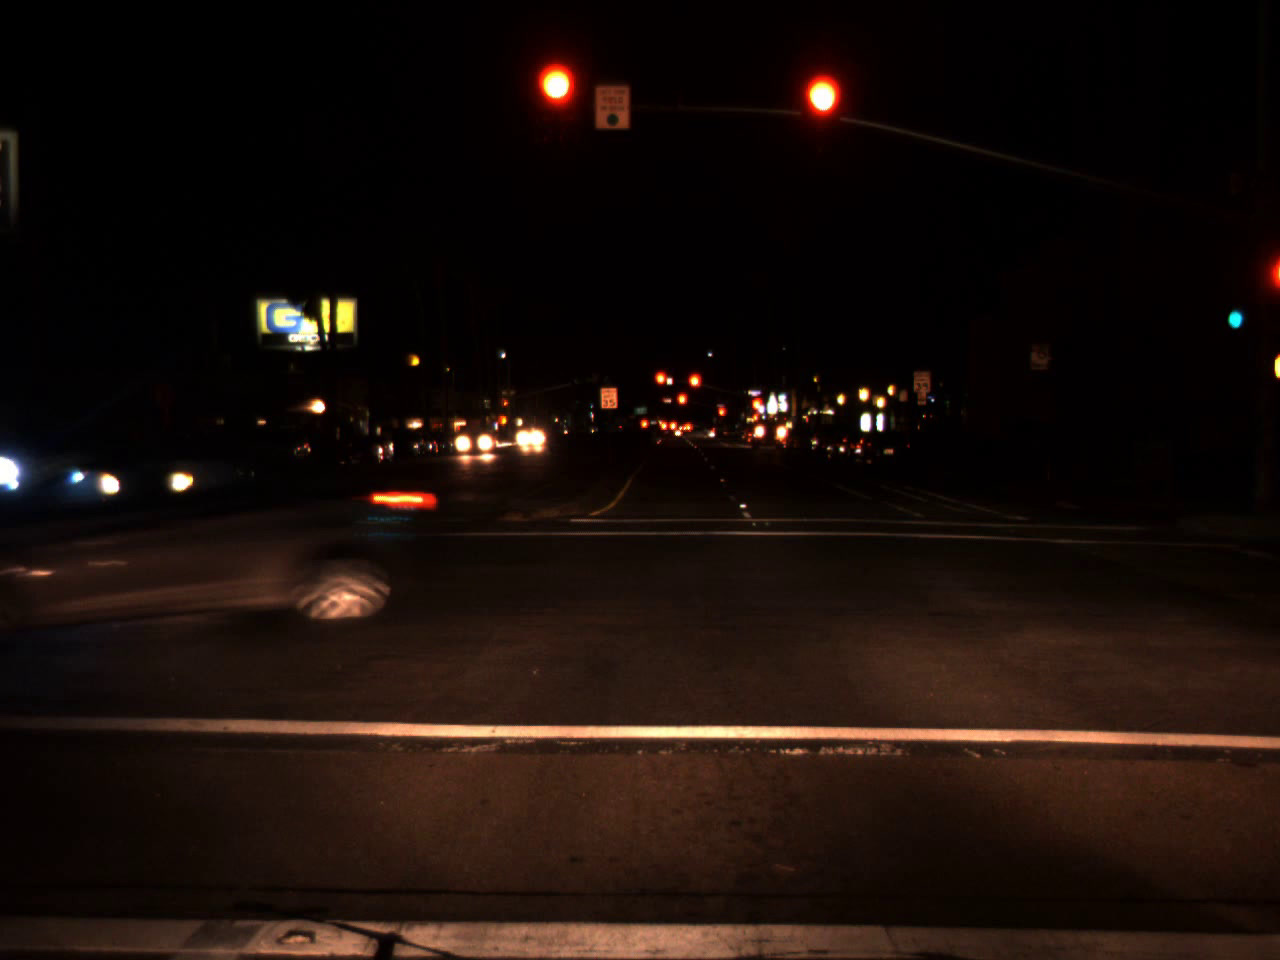stop: (538, 64, 578, 142), (802, 75, 839, 153), (653, 369, 671, 401), (686, 371, 702, 403), (675, 391, 688, 418), (750, 396, 763, 412), (717, 406, 727, 427), (503, 398, 509, 414)
